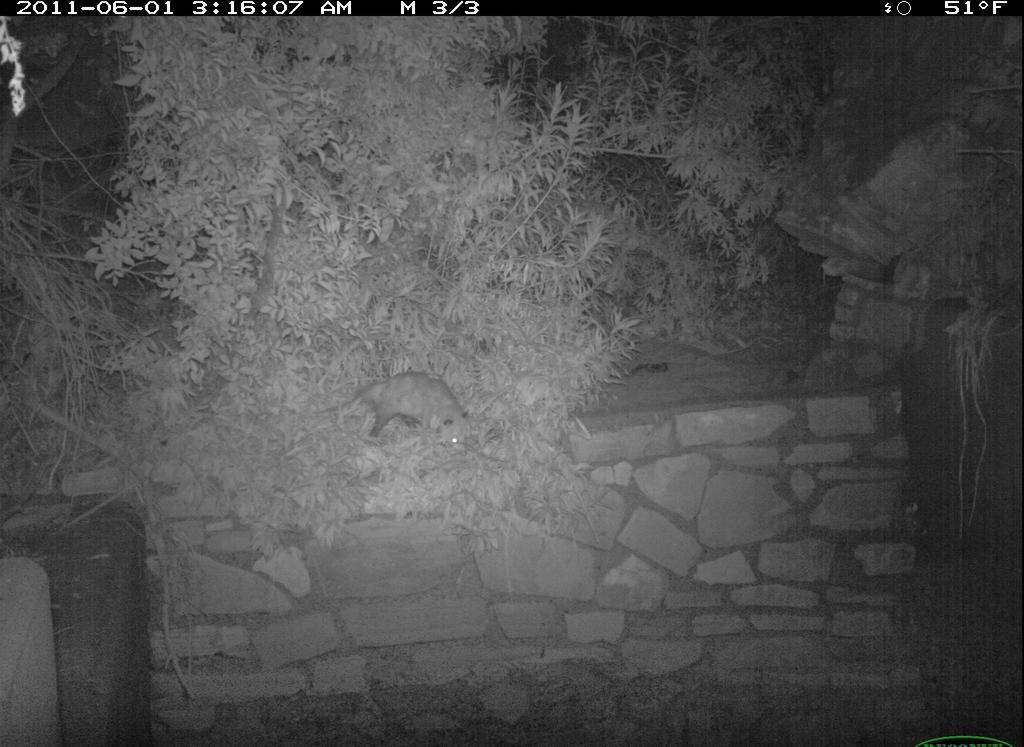opossum: (309, 364, 507, 483)
